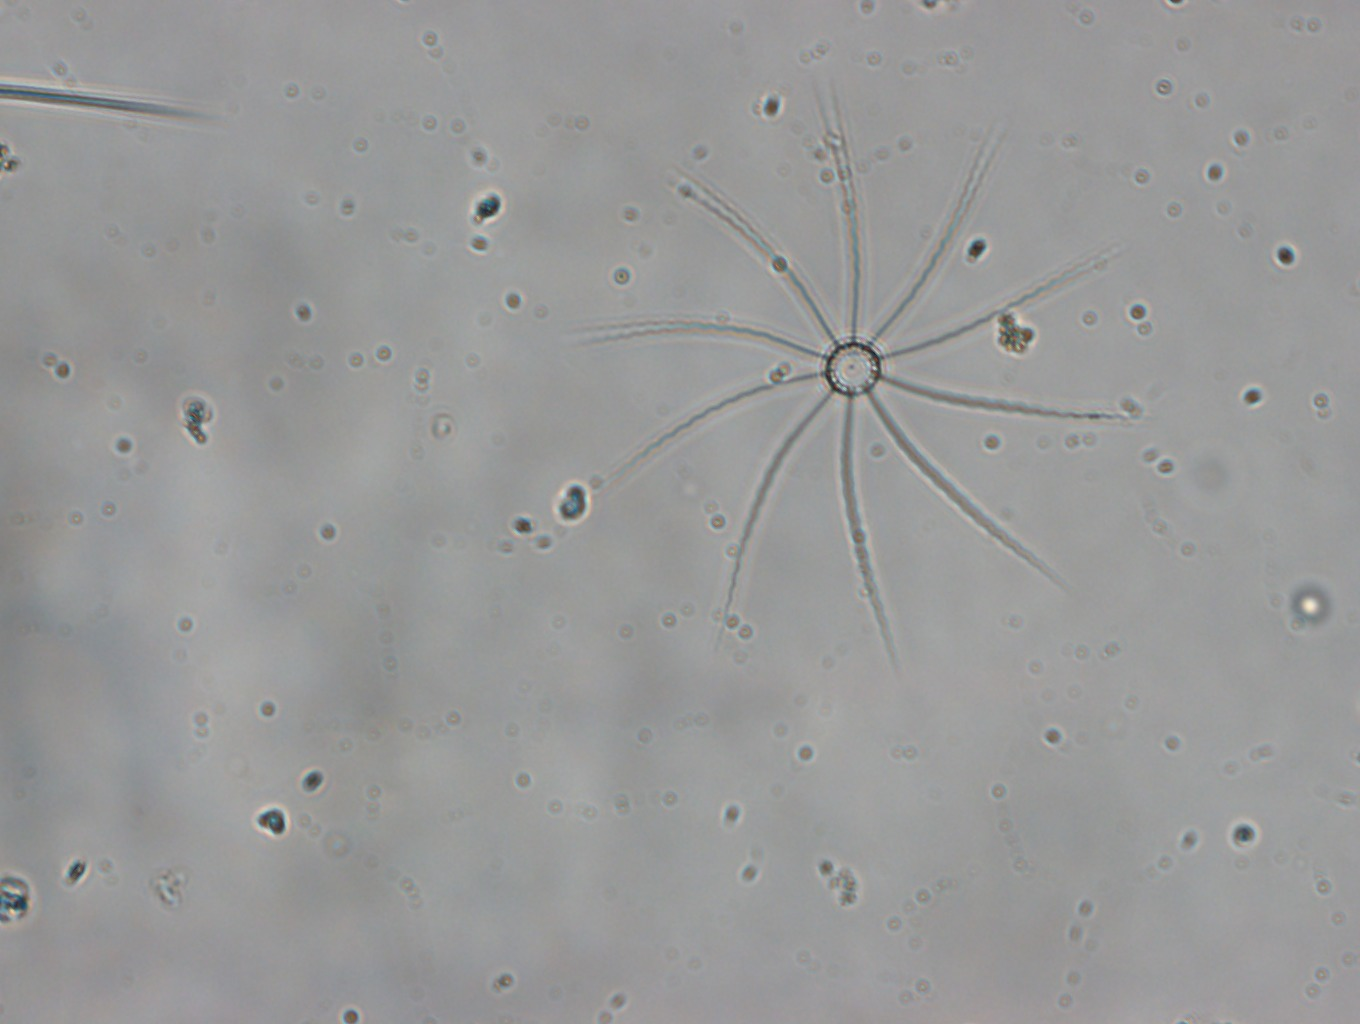bacteriastrum: (566, 77, 1136, 658)
